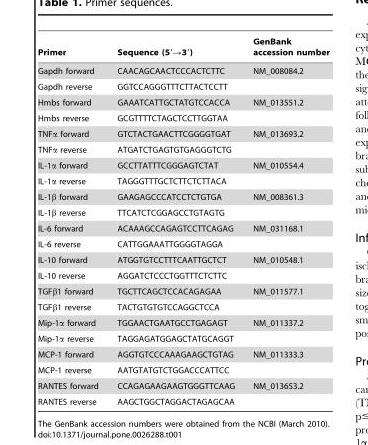table: (37, 36, 328, 405)
table column: (107, 36, 243, 405), (243, 36, 328, 405), (37, 36, 107, 405)
table column header: (37, 36, 328, 61)
table row: (37, 36, 328, 61), (37, 61, 328, 78), (37, 78, 328, 94), (37, 94, 328, 110), (37, 125, 328, 141), (37, 141, 328, 157), (37, 157, 328, 173), (37, 188, 328, 204), (37, 204, 328, 220), (37, 220, 328, 236), (37, 251, 328, 267), (37, 267, 328, 283), (37, 283, 328, 299), (37, 314, 328, 330), (37, 330, 328, 346), (37, 346, 328, 362), (37, 377, 328, 393), (37, 110, 328, 125), (37, 173, 328, 188), (37, 236, 328, 251), (37, 299, 328, 314), (37, 362, 328, 377), (37, 393, 328, 405)
